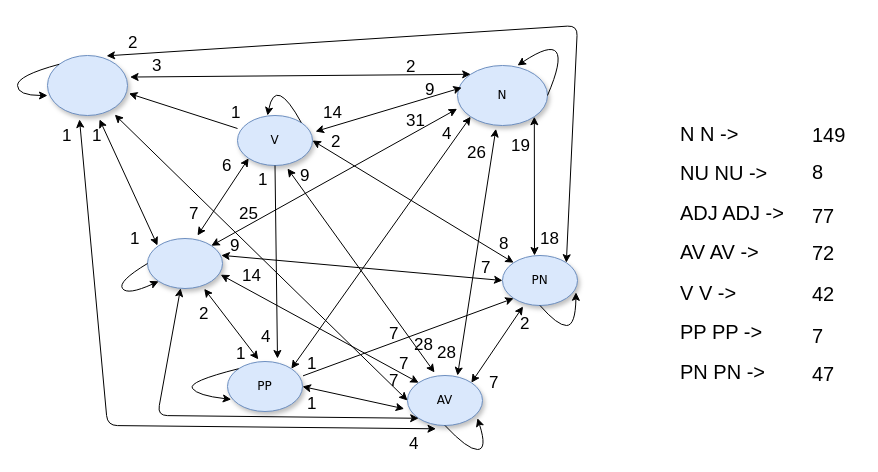
Some shapes in this 878 by 472 pixel diagram are drawn without their labels. The centre of each missing label's shape, as x and y in pixels:
ADJ: the point at 185,265
NU: the point at 88,86
